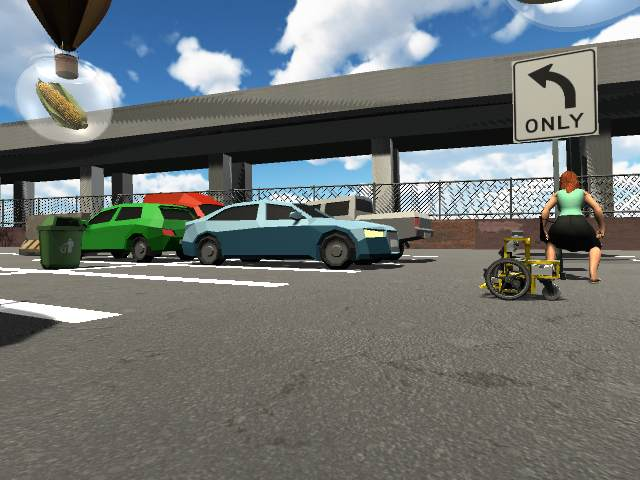arrow_left: (527, 64, 576, 108)
